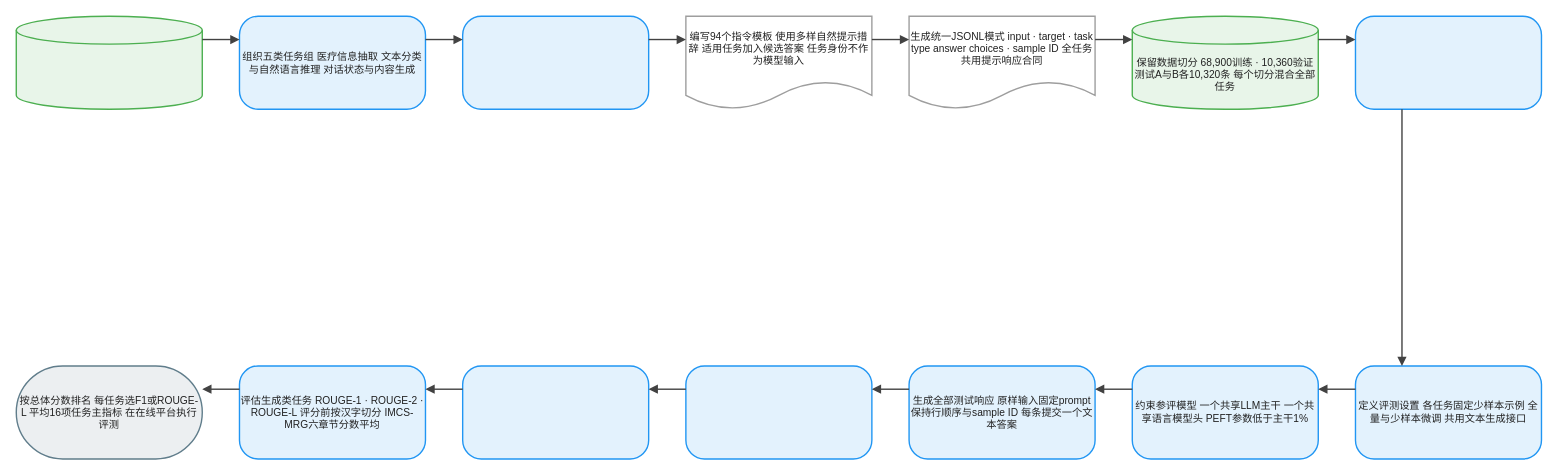
This 1559x476 diagram has some shape labels left out. The centre of each missing label's shape, as x and y in pixels:
为LLM改造每个任务 转换跨度标签与结构 全部目标表达为生成文本 保留任务专用语义: the point at 555,62
汇集16个医疗NLP任务 基于CBLUE及配套任务 保留真实中文医疗文本 覆盖理解与生成: the point at 109,62
解析为任务结构 提供仅标准库后处理代码 文本转实体标签或章节 生成按任务分组results JSON: the point at 778,412
评估理解类任务 抽取任务严格micro-F1 部分分类任务macro-F1 其余推理任务micro-F1: the point at 555,412
隐藏测试集标准答案 发布固定测试输入 target字符串留空 减少直接标签泄漏: the point at 1448,62
